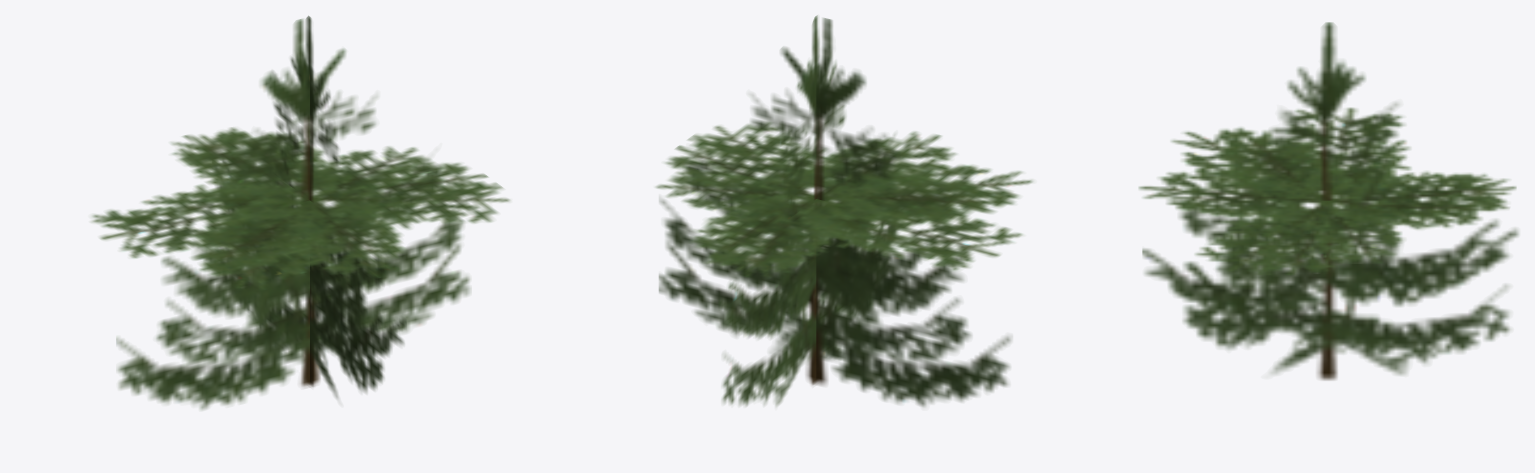
The model's file is fir-small-3-lod-3.glb.
The picture shows the model from 3 angles, left to right: view 1: azimuth 30°, elevation 25°; view 2: azimuth 150°, elevation 25°; view 3: azimuth 270°, elevation 25°; orthographic projection. The views are drawn at different scales.
Parts seen in each view (by area): view 1: fir-small-3-lod-3; view 2: fir-small-3-lod-3; view 3: fir-small-3-lod-3.
Part boxes in pixels (box(x1,y1,x2,y2)): fir-small-3-lod-3: box(91, 16, 510, 409); fir-small-3-lod-3: box(655, 15, 1033, 407); fir-small-3-lod-3: box(1138, 22, 1518, 380).
Bounding box in the file's own units: 1.59 × 1.56 × 1.51.
Materials: 1 (1 with a texture image).
